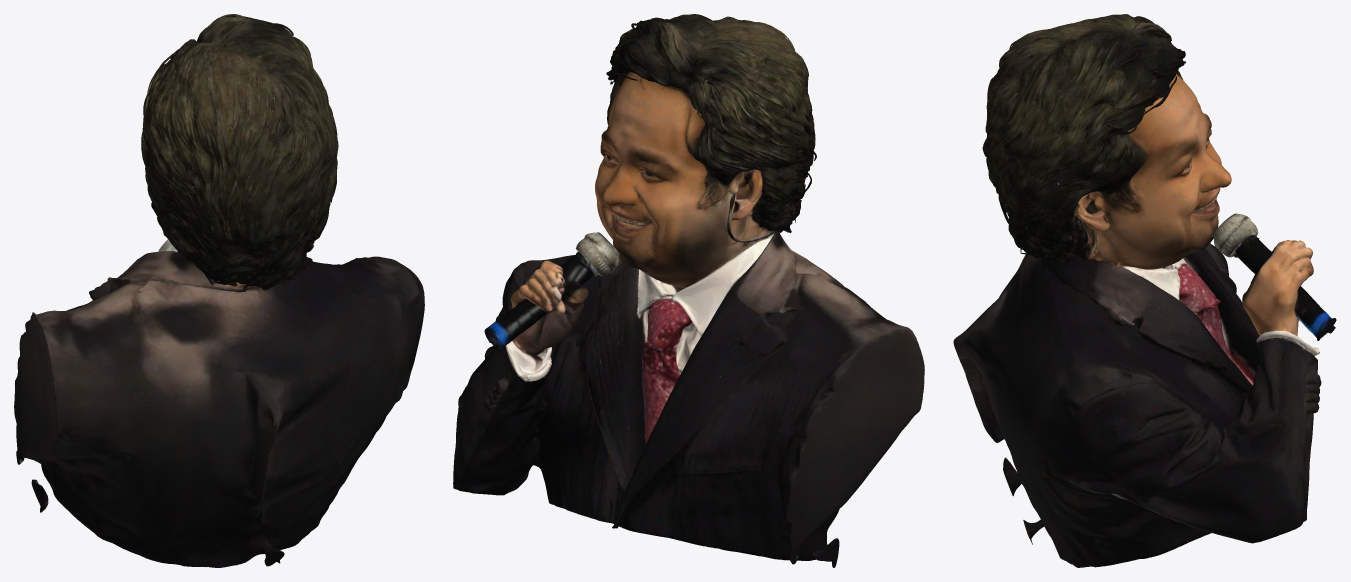
Rendered from Rashid.preview-v1.glb.
The picture shows the model from 3 angles, left to right: view 1: azimuth 30°, elevation 25°; view 2: azimuth 150°, elevation 25°; view 3: azimuth 270°, elevation 25°; orthographic projection. The views are drawn at different scales.
Parts seen in each view (by area): view 1: world; view 2: world; view 3: world.
Boxes of the visible parts, left/top/right/bottom form: world: left=14, top=14, right=424, bottom=567; world: left=453, top=14, right=924, bottom=567; world: left=953, top=14, right=1336, bottom=567.
Size of the model in its own units: 0.7298 by 0.9329 by 0.616.
Materials: 1 (1 with a texture image).
